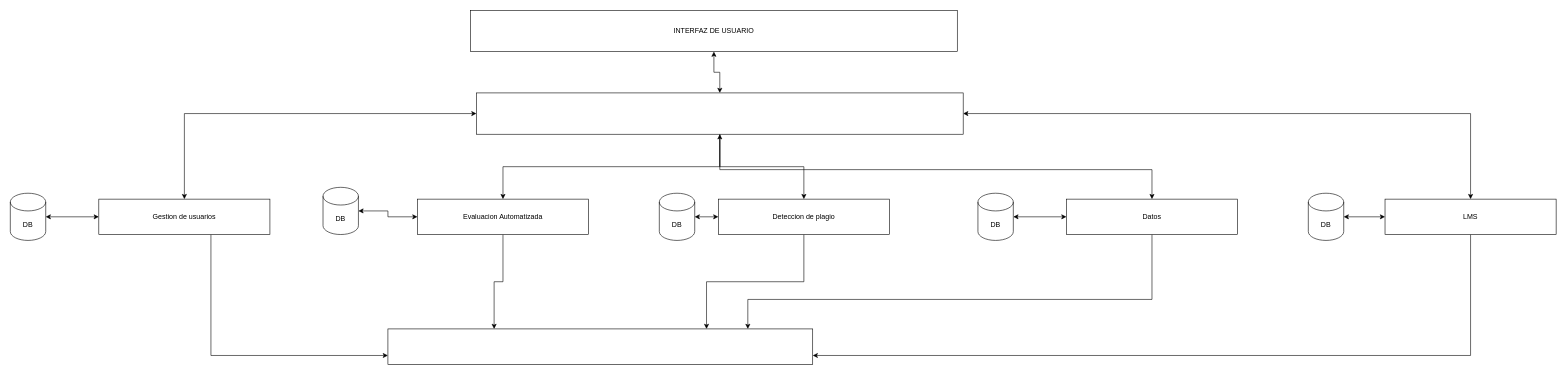
The diagram is 1566 pixels wide and 375 high, and some of its shapes have lost their labels. The shapes that lost their labels are listed below. From the top down, each one's box as (x1, y1, x2, y2) in pixels, then its label:
(476, 92, 963, 134): API
(387, 328, 813, 364): BUS DE MENSAJES
